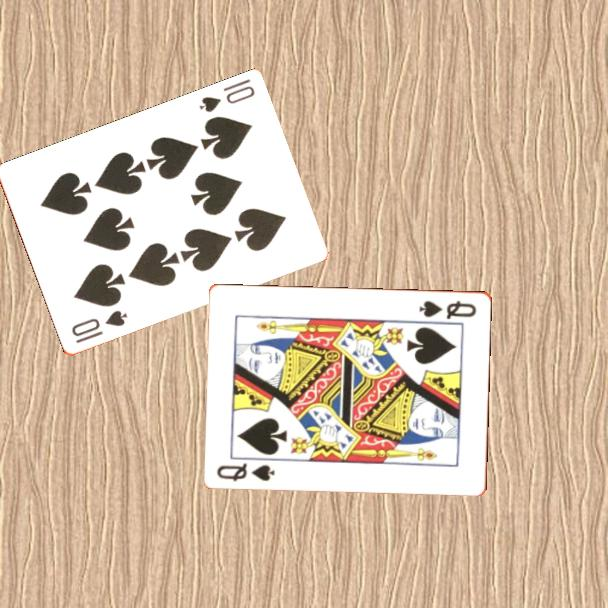s10: (68, 307, 130, 347), (195, 76, 257, 116)
s12: (214, 459, 278, 484), (416, 297, 480, 321)
